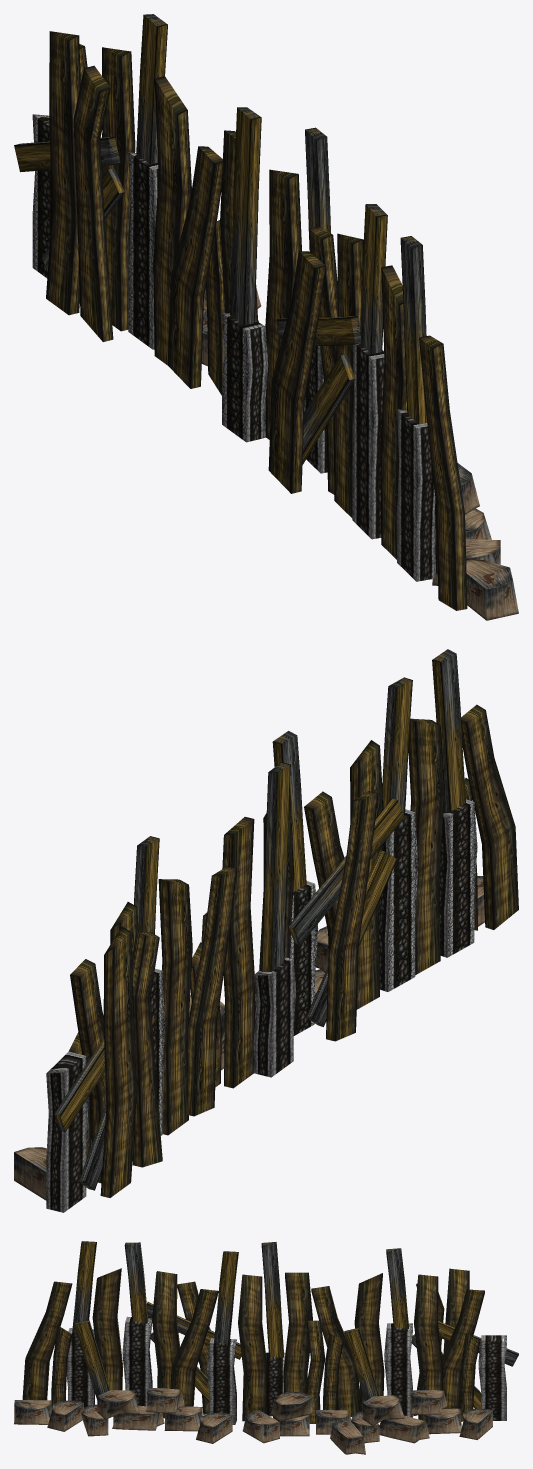
The model's file is CB_BEIORN_WALL_EXPLODE.fbx.
3 renders of one model, top to bottom at view 1: azimuth 30°, elevation 25°; view 2: azimuth 150°, elevation 25°; view 3: azimuth 270°, elevation 25°, orthographic. The views are drawn at different scales.
Visible parts, largest first — view 1: CB_BEIORN_WALL_EXPLODE; view 2: CB_BEIORN_WALL_EXPLODE; view 3: CB_BEIORN_WALL_EXPLODE.
Boxes of the visible parts, bbox=[...] form: CB_BEIORN_WALL_EXPLODE: bbox=[14, 14, 518, 620]; CB_BEIORN_WALL_EXPLODE: bbox=[14, 649, 518, 1212]; CB_BEIORN_WALL_EXPLODE: bbox=[14, 1241, 518, 1454].
Bounding box in the file's own units: 21457 × 38256 × 99990.
Materials: 4 (4 with a texture image).
